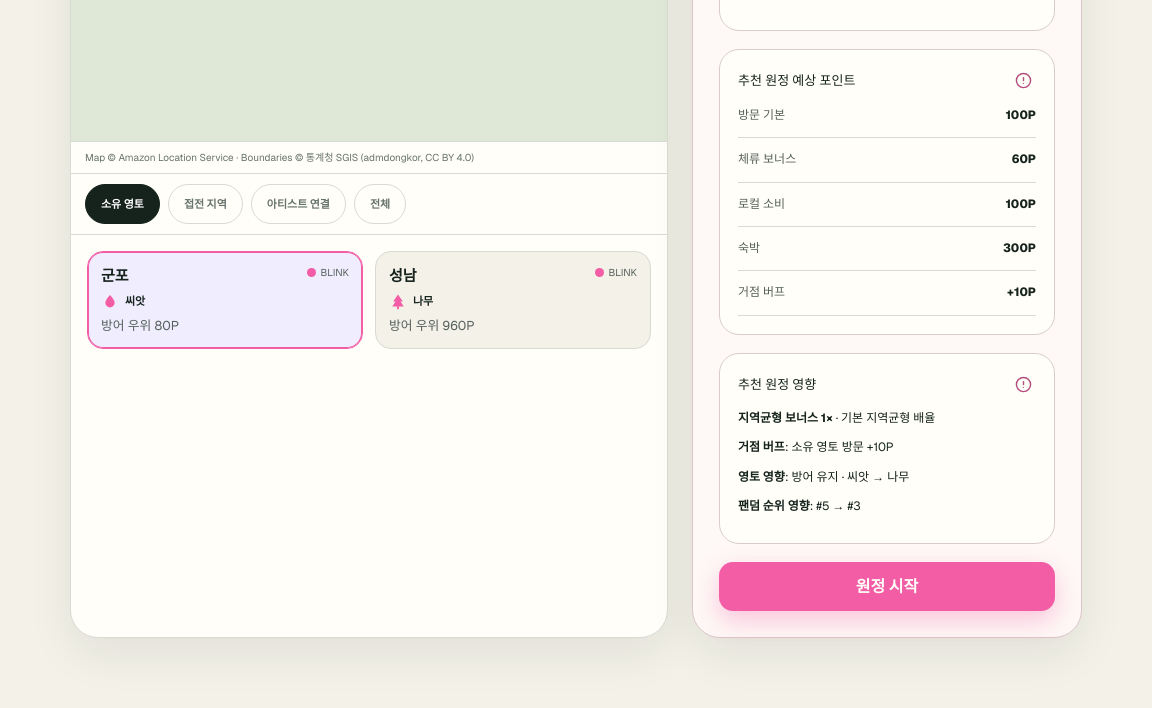
it: reports a started route as in progress on the tactical panel
The image size is (1152, 708).
(page scrolled)
Click the button "원정 시작" at (887, 587), box [719,562,1055,611]
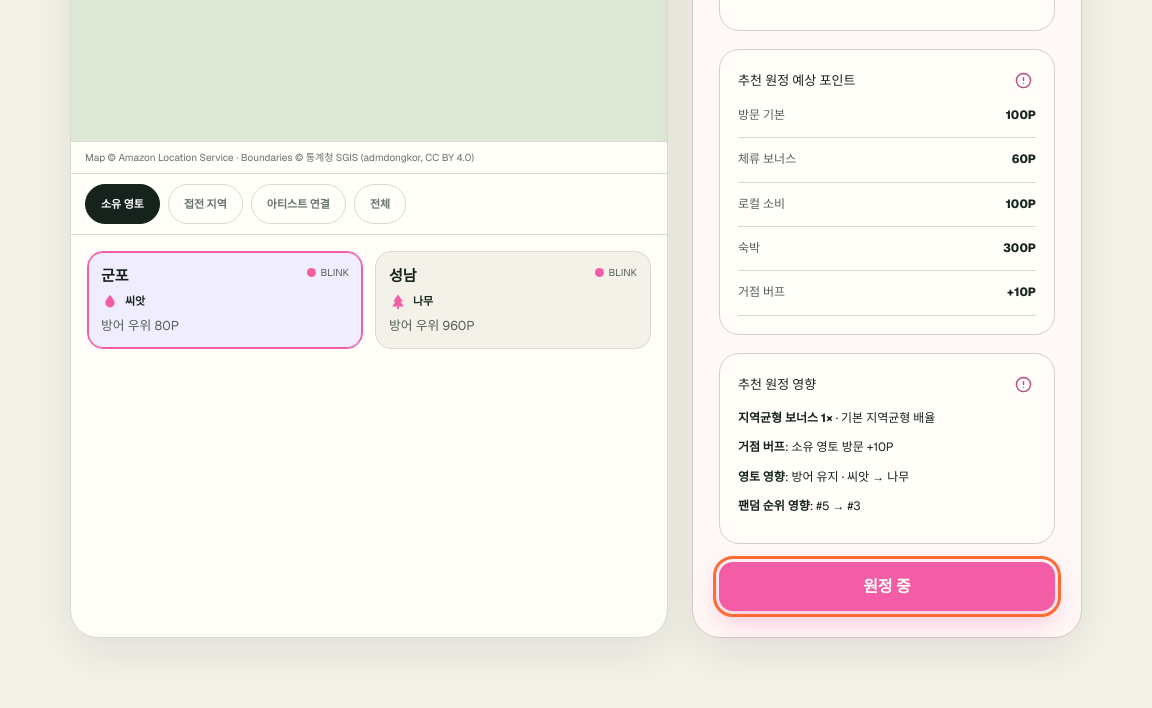
Now the button "원정 중" is shown, box [719,562,1055,611]
